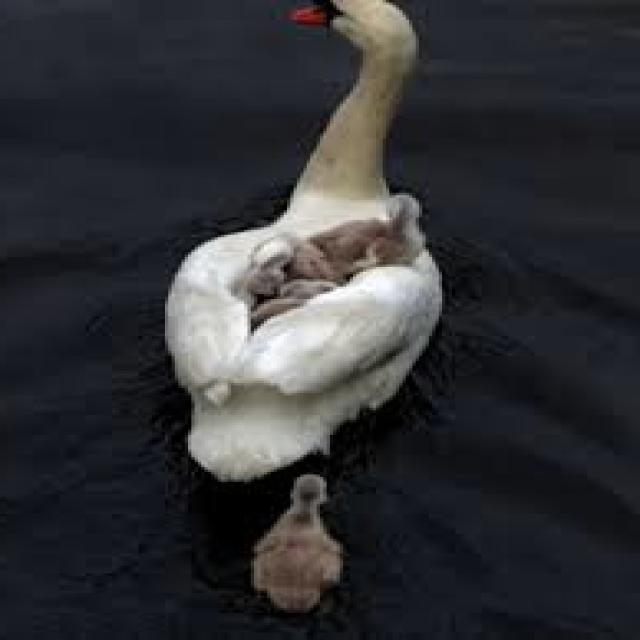swan: (168, 0, 442, 479), (254, 479, 343, 610)
